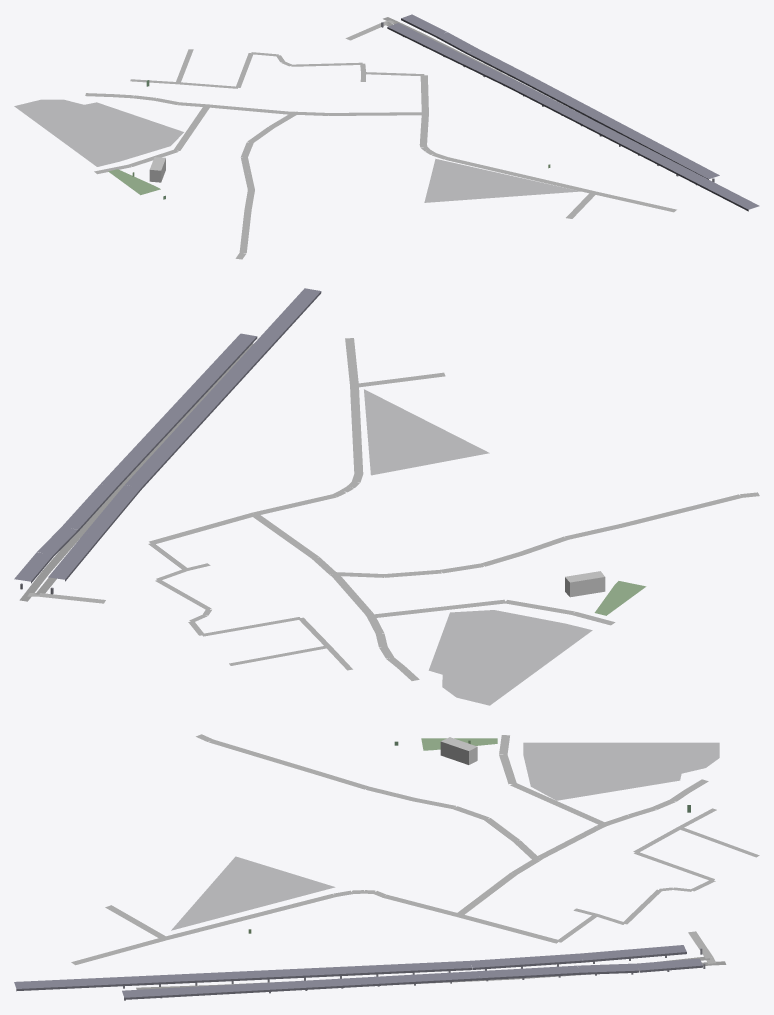
3 renders of one model, top to bottom at view 1: azimuth 30°, elevation 25°; view 2: azimuth 150°, elevation 25°; view 3: azimuth 270°, elevation 25°, orthographic. The views are drawn at different scales.
Bounding box in the file's own units: 517 × 21.13 × 612.
